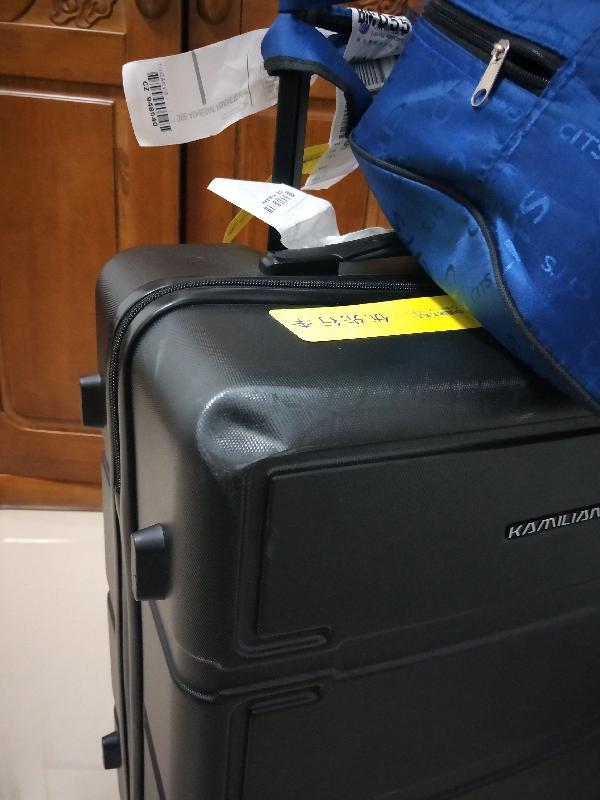rupture: (196, 387, 285, 467)
